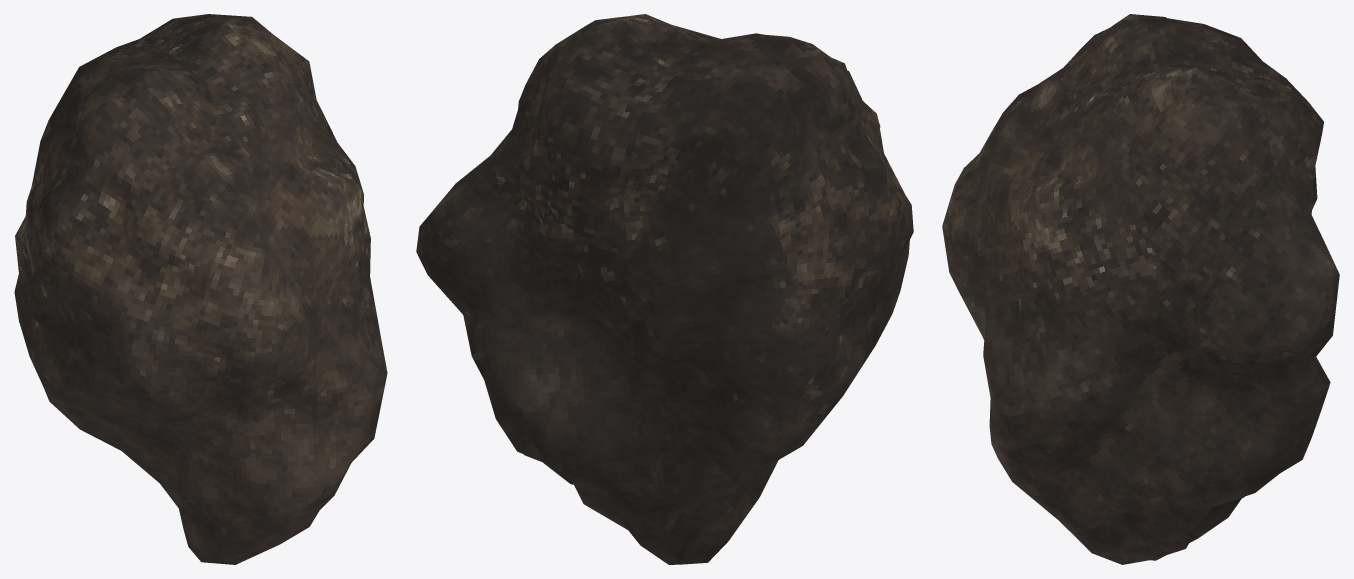
Rendered from SM_RP2_Rock_4m_1.glb.
The picture shows the model from 3 angles, left to right: view 1: azimuth 30°, elevation 25°; view 2: azimuth 150°, elevation 25°; view 3: azimuth 270°, elevation 25°; orthographic projection. The views are drawn at different scales.
Visible parts, largest first — view 1: SM_RP2_Rock_4m_1; view 2: SM_RP2_Rock_4m_1; view 3: SM_RP2_Rock_4m_1.
Part boxes in pixels (box(x1,y1,x2,y2)): SM_RP2_Rock_4m_1: box(14, 14, 387, 564); SM_RP2_Rock_4m_1: box(416, 14, 913, 564); SM_RP2_Rock_4m_1: box(942, 14, 1339, 564).
Size of the model in its own units: 4.7 by 6.51 by 4.62.
Materials: 1 (1 with a texture image).
